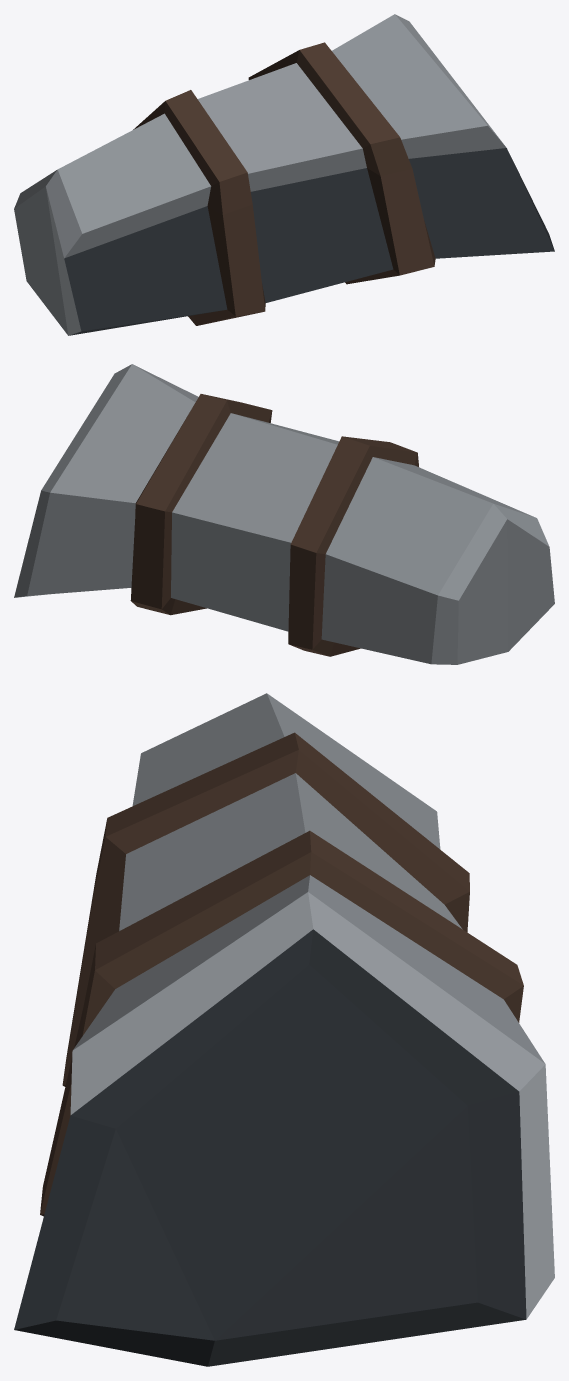
Rendered from Chr_ArmUpperRight_Male_07_Static.fbx.
3 views of the same model, one above another, from view 1: azimuth 30°, elevation 25°; view 2: azimuth 150°, elevation 25°; view 3: azimuth 270°, elevation 25° (orthographic). The views are drawn at different scales.
Visible parts, largest first — view 1: Chr_ArmUpperRight_Male_07_Static; view 2: Chr_ArmUpperRight_Male_07_Static; view 3: Chr_ArmUpperRight_Male_07_Static.
Part boxes in pixels (<box>): Chr_ArmUpperRight_Male_07_Static: <box>14,14,554,335</box>; Chr_ArmUpperRight_Male_07_Static: <box>14,364,554,664</box>; Chr_ArmUpperRight_Male_07_Static: <box>14,693,554,1366</box>.
Bounding box in the file's own units: 0.3307 × 0.167 × 0.1832.
